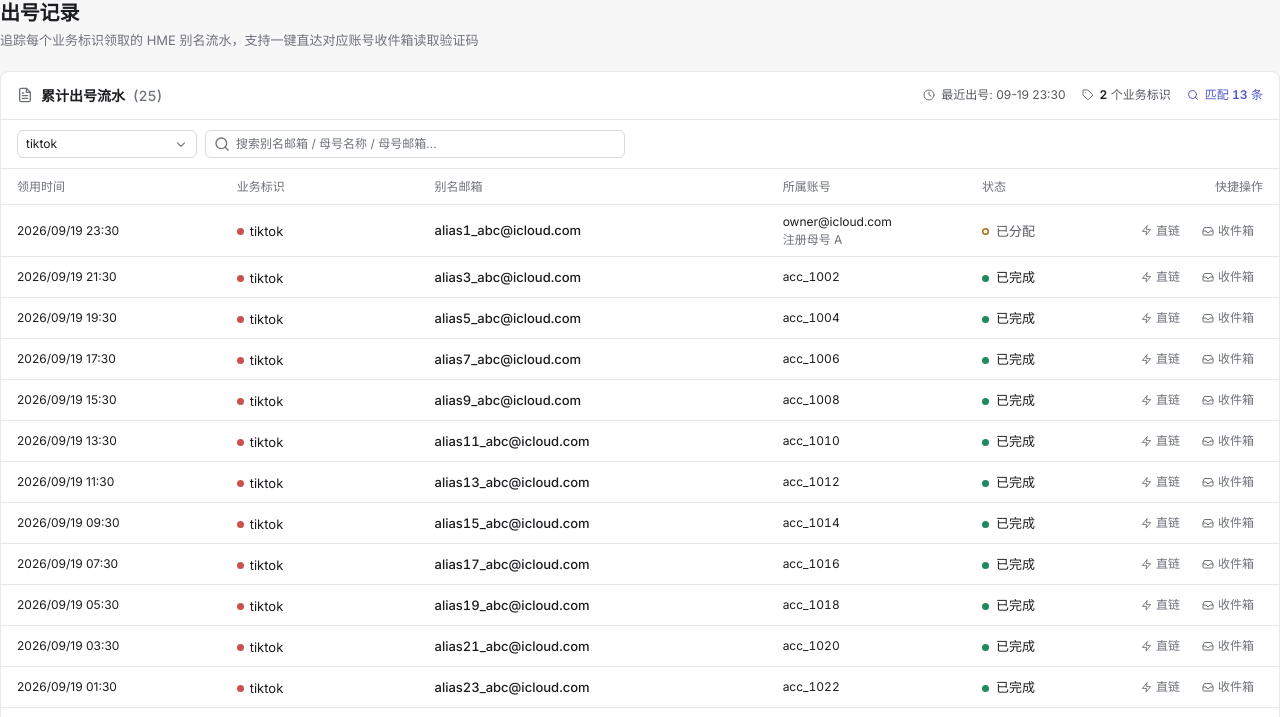
Test case: UsedAliasesPage › 带筛选搜索无结果时提示调整筛选条件，且不出现引导按钮
Expected: the text "alias1_abc@icloud.com" is shown, [434, 221, 581, 240]
Type "zzz" into the field named "搜索别名邮箱、母号名称、母号邮箱或账号 ID" at (415, 144), box [205, 130, 625, 158]
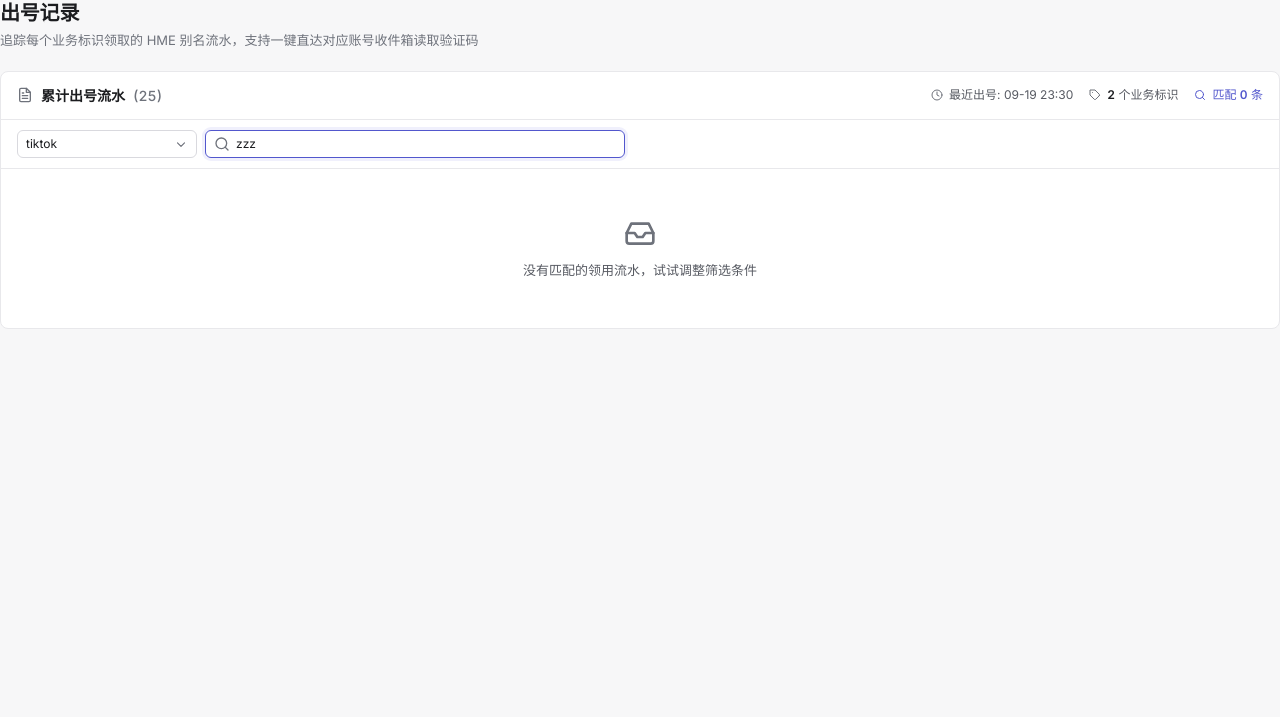
Expected: the text "没有匹配的领用流水，试试调整筛选条件" is shown, [523, 217, 757, 278]
